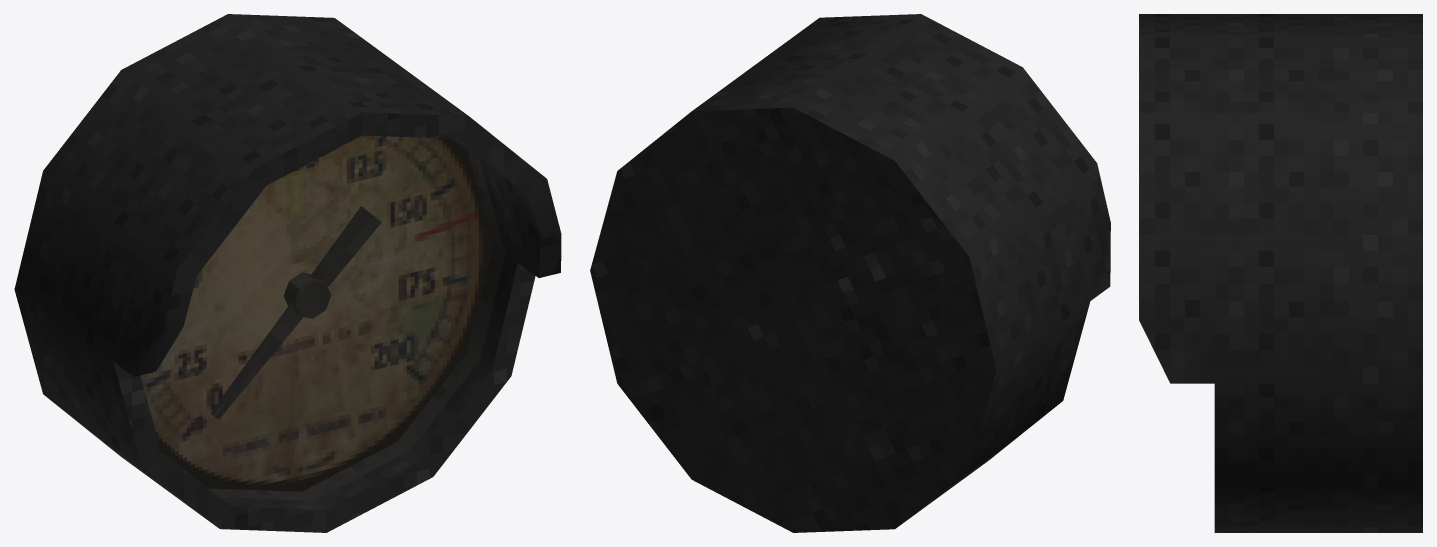
The model's file is gauge_etx_1.glb.
3 views of the same model, side by side, from view 1: azimuth 30°, elevation 25°; view 2: azimuth 150°, elevation 25°; view 3: azimuth 270°, elevation 25° (orthographic). The views are drawn at different scales.
Visible parts, largest first — view 1: gauge_etx_1, gauge_etx_1pointer_child; view 2: gauge_etx_1; view 3: gauge_etx_1.
Boxes of the visible parts, left/top/right/bottom form: gauge_etx_1: left=14, top=14, right=561, bottom=532; gauge_etx_1pointer_child: left=210, top=206, right=381, bottom=419; gauge_etx_1: left=590, top=14, right=1110, bottom=532; gauge_etx_1: left=1139, top=14, right=1422, bottom=532.
Bounding box in the file's own units: 0.2 × 0.2 × 0.109.
3 materials, 3 textured.
